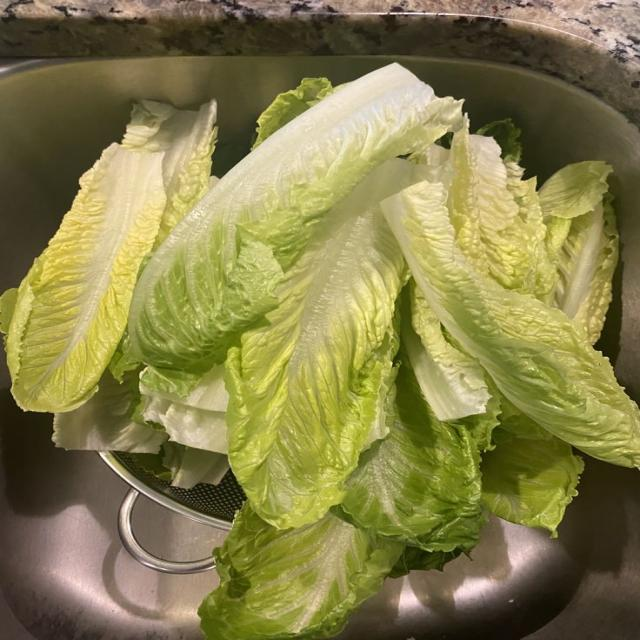lettuce: (129, 64, 460, 373), (382, 182, 639, 466), (227, 160, 422, 528), (3, 102, 215, 411), (199, 504, 403, 639), (341, 363, 486, 551), (482, 438, 583, 536), (54, 372, 167, 453), (140, 366, 228, 454)
